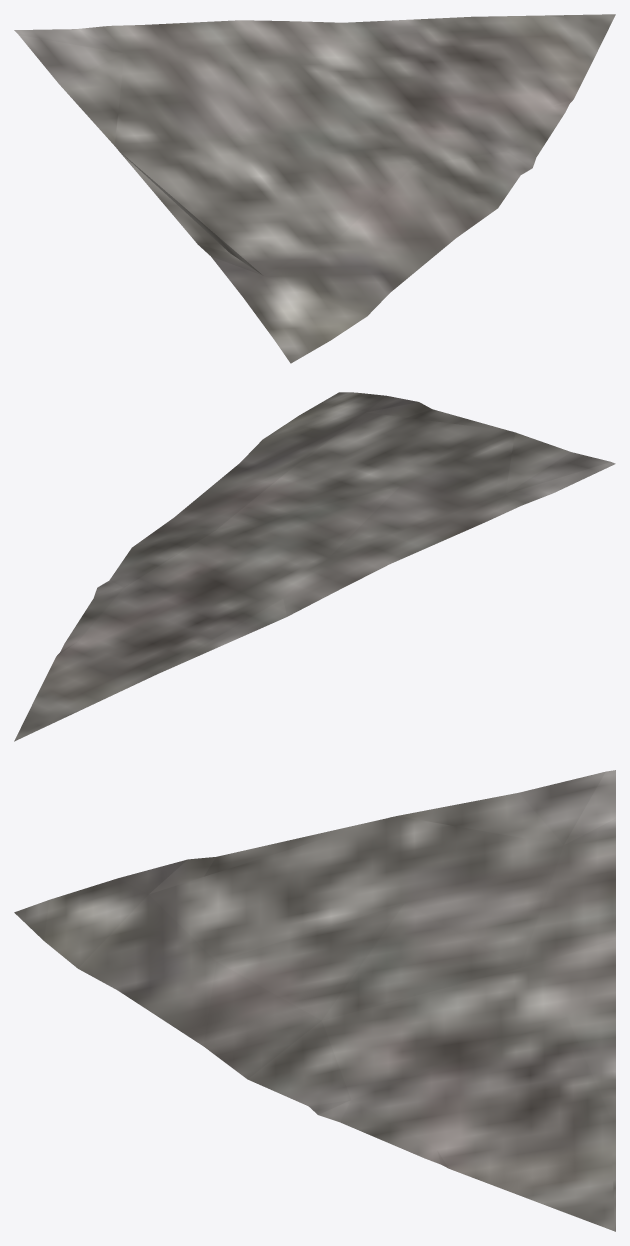
The picture shows the model from 3 angles, top to bottom: view 1: azimuth 30°, elevation 25°; view 2: azimuth 210°, elevation 25°; view 3: azimuth 270°, elevation 25°; orthographic projection. The views are drawn at different scales.
Size of the model in its own units: 0.1687 by 0.0351 by 0.1343.
Materials: 1 (1 with a texture image).
